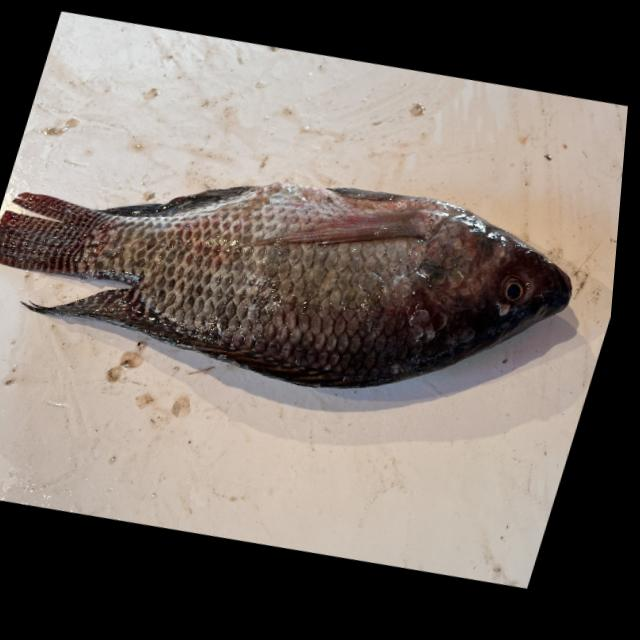Tilapia: (0, 90, 602, 459)
